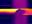Hotspot: (0, 9, 18, 14)
